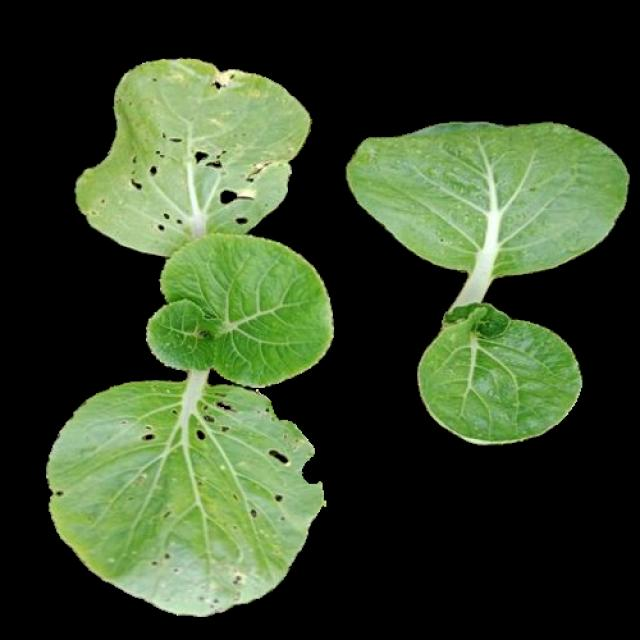healthy: (347, 117, 630, 439)
not-mature: (43, 59, 333, 610), (347, 119, 630, 442)
unhealthy: (48, 372, 322, 614), (78, 59, 311, 246)
